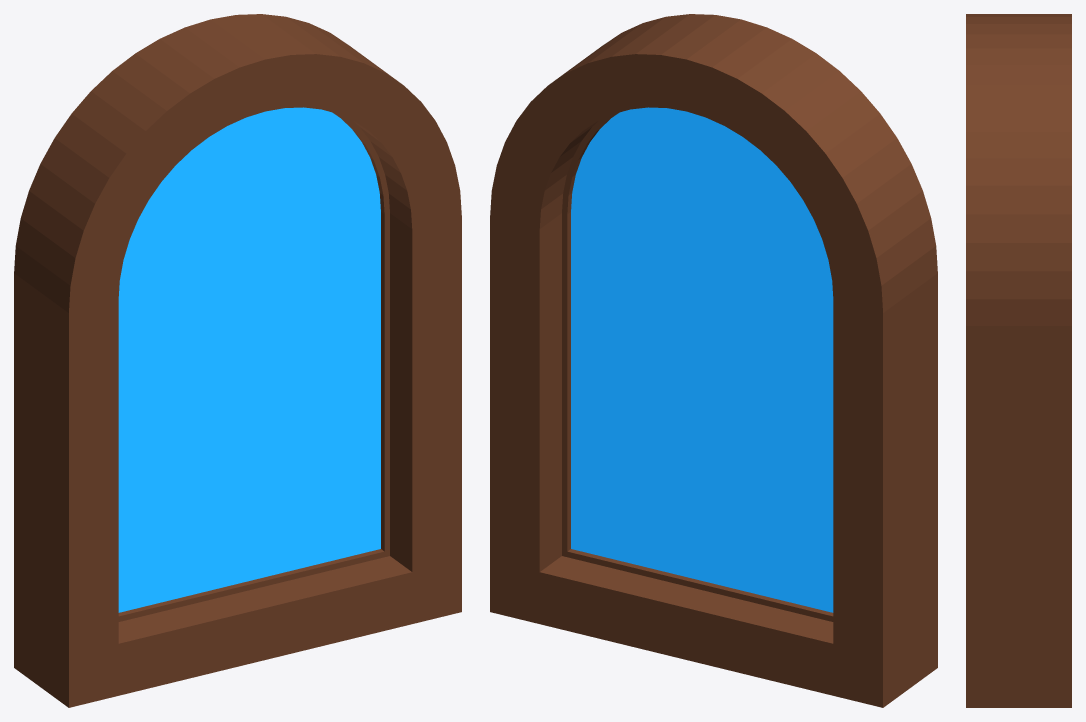
The model's file is janela_arco_inteira_madeira.glb.
3 views of the same model, side by side, from view 1: azimuth 30°, elevation 25°; view 2: azimuth 150°, elevation 25°; view 3: azimuth 270°, elevation 25° (orthographic). The views are drawn at different scales.
Visible parts, largest first — view 1: janela_arco_inteira_madeira; view 2: janela_arco_inteira_madeira; view 3: janela_arco_inteira_madeira.
Boxes of the visible parts, x1,y1,x2,y2 form: janela_arco_inteira_madeira: (14, 14, 461, 707); janela_arco_inteira_madeira: (490, 14, 937, 707); janela_arco_inteira_madeira: (966, 14, 1071, 707).
Bounding box in the file's own units: 0.87 × 1.27 × 0.21.
